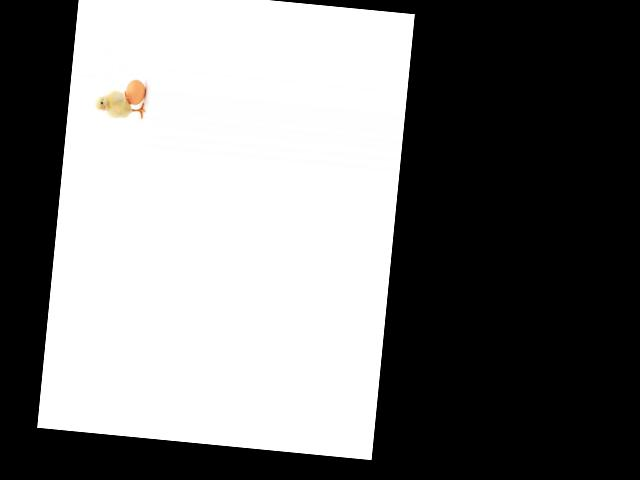egg: (124, 78, 146, 106)
